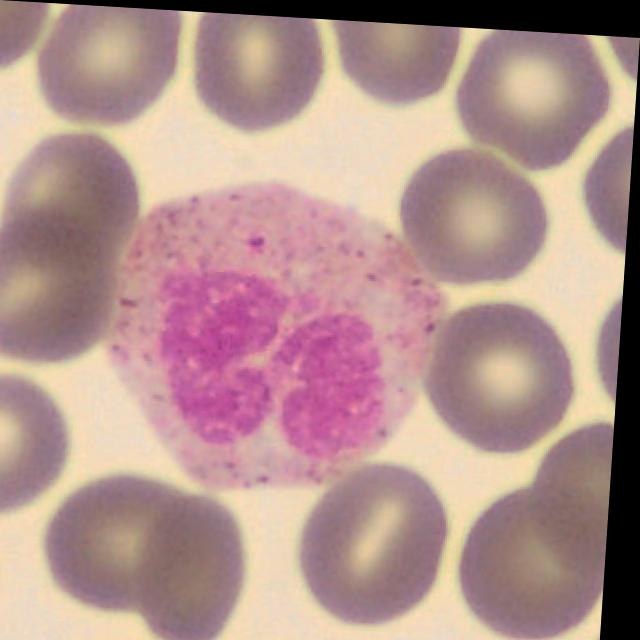Neutrofilo segmentado: (109, 176, 441, 489)
